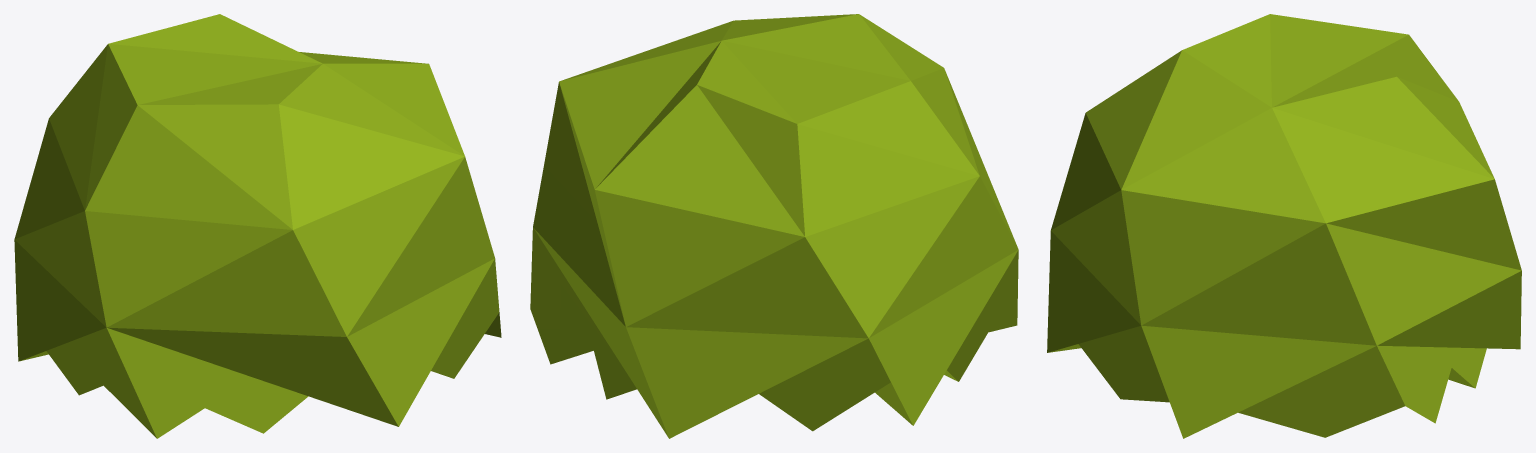
The model's file is Vegetation_Modular_Tree_Foliage_Clump_Draped_02.fbx.
3 renders of one model, left to right at view 1: azimuth 30°, elevation 25°; view 2: azimuth 150°, elevation 25°; view 3: azimuth 270°, elevation 25°, orthographic. The views are drawn at different scales.
Parts seen in each view (by area): view 1: Vegetation_Modular_Tree_Foliage_Clump_Draped_02; view 2: Vegetation_Modular_Tree_Foliage_Clump_Draped_02; view 3: Vegetation_Modular_Tree_Foliage_Clump_Draped_02.
Boxes of the visible parts, x1,y1,x2,y2 form: Vegetation_Modular_Tree_Foliage_Clump_Draped_02: (14, 14, 501, 438); Vegetation_Modular_Tree_Foliage_Clump_Draped_02: (530, 14, 1018, 438); Vegetation_Modular_Tree_Foliage_Clump_Draped_02: (1047, 14, 1521, 438).
Bounding box in the file's own units: 3710 × 2718 × 4007.
